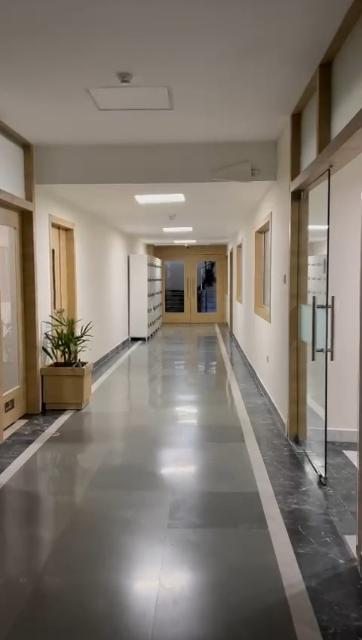door: (289, 180, 347, 480), (0, 125, 34, 417), (160, 248, 228, 330), (48, 218, 80, 318)
floor: (0, 329, 362, 636)
object: (40, 314, 94, 410)
wall: (78, 231, 130, 347), (273, 192, 289, 412), (240, 226, 254, 346)
